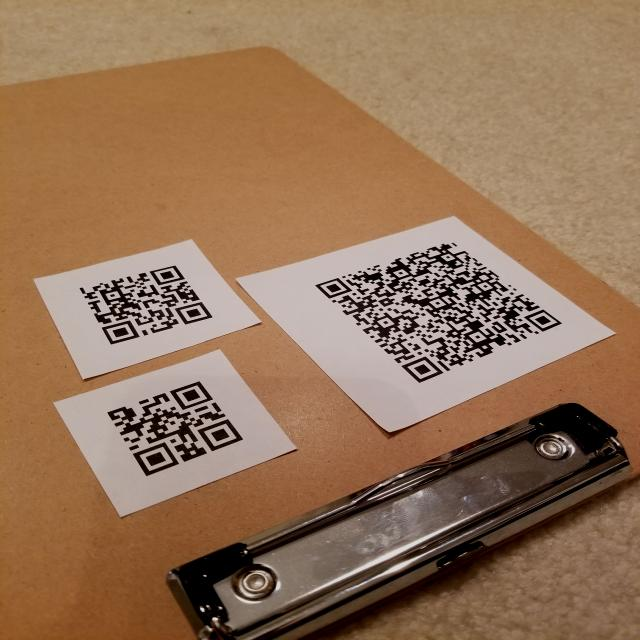QRCode: (310, 234, 568, 388), (94, 374, 268, 484), (64, 251, 234, 351)
